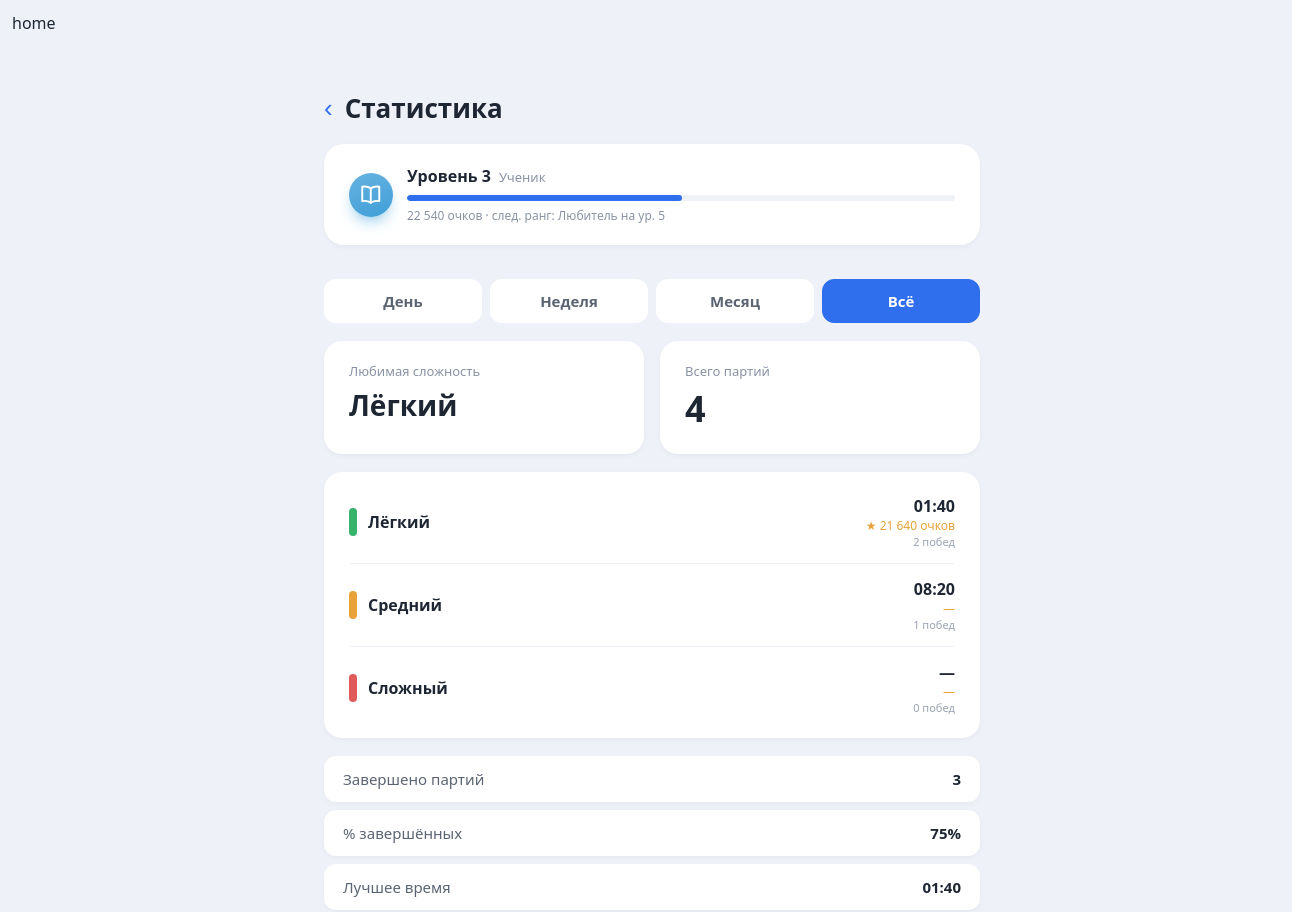
Test case: StatsView › переключение периода меняет цифры (day исключает старую партию)
Click the button with test id "period-day" at (403, 301), box x1=324 y1=279 x2=482 y2=323
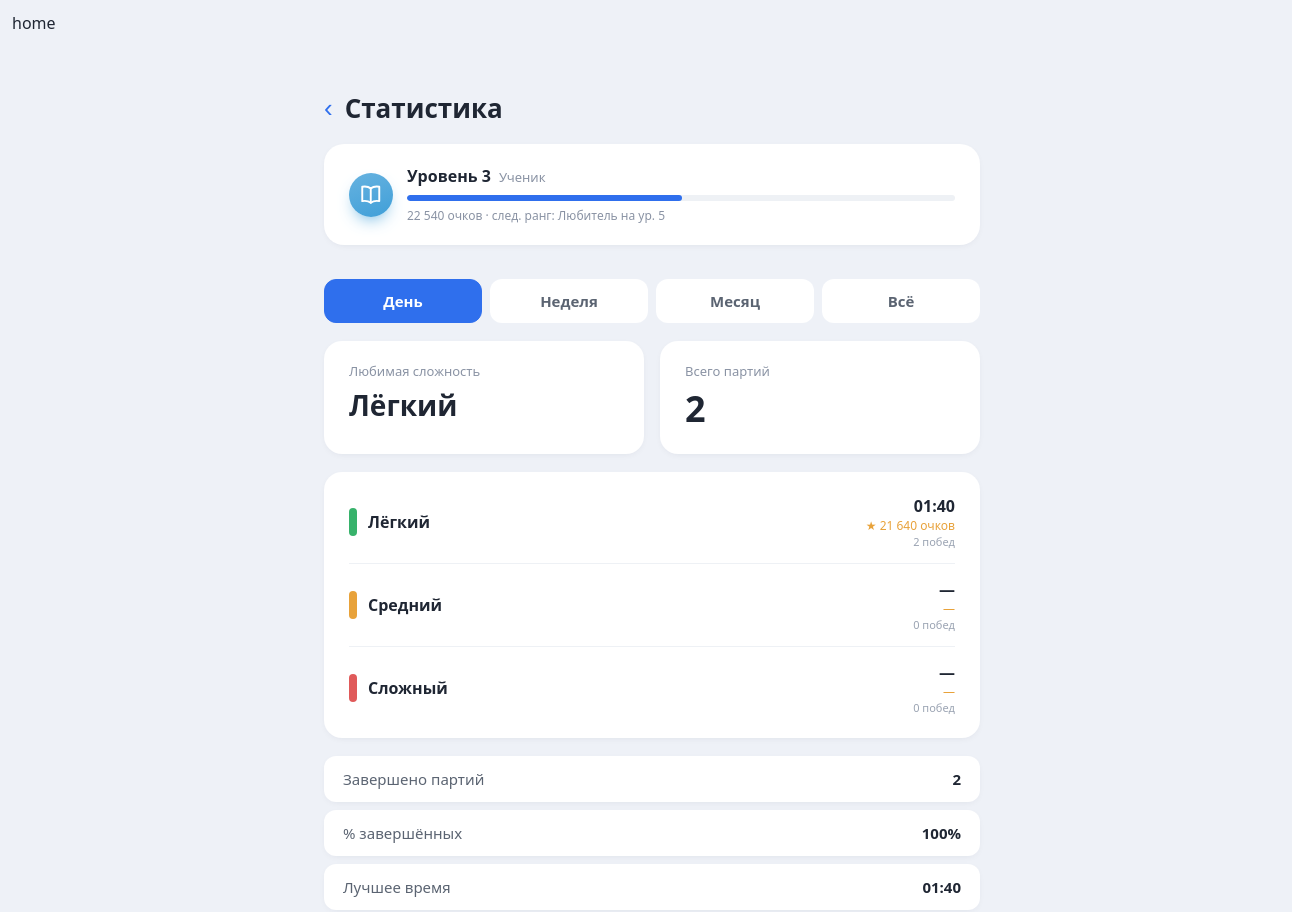
Expected: the text with test id "stat-completed-count" reads "2", x1=952 y1=769 x2=961 y2=789
Click the button with test id "period-all" at (901, 301), box x1=822 y1=279 x2=980 y2=323
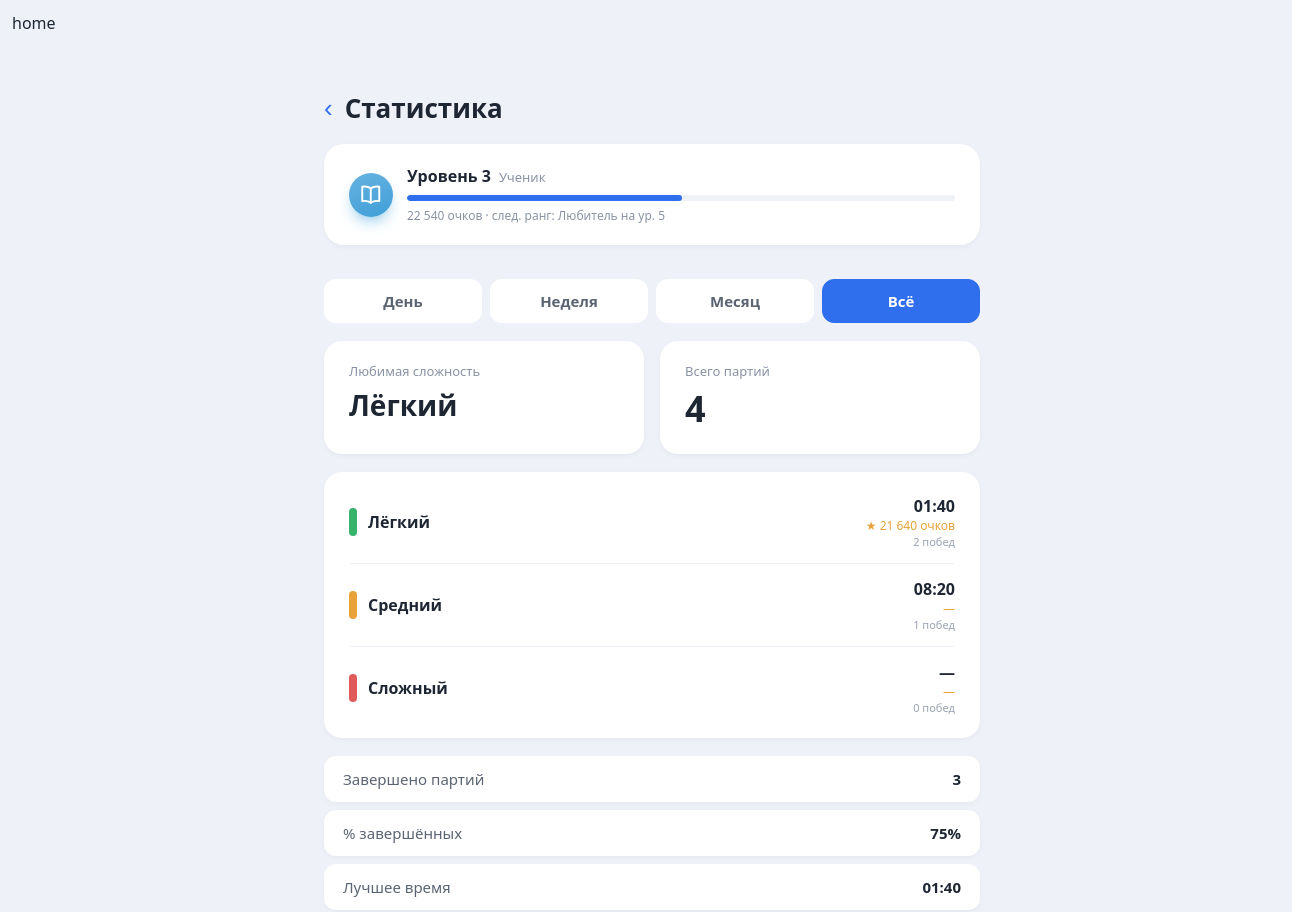
Expected: the text with test id "stat-completion-rate" shows "75", x1=930 y1=823 x2=961 y2=843
